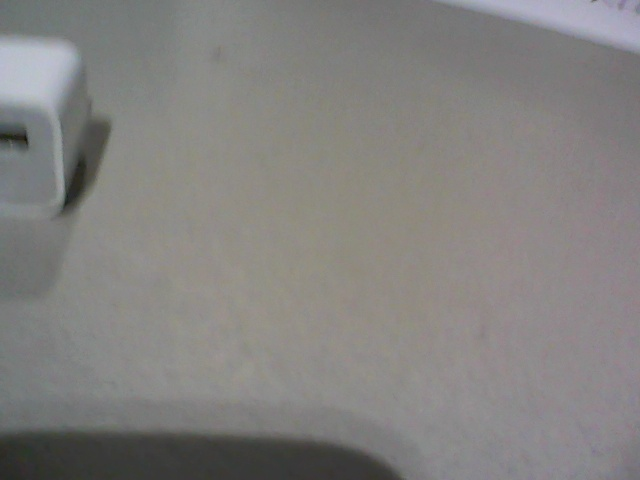charger: (1, 37, 88, 219)
